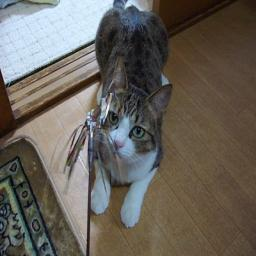catnose: (114, 136, 125, 151)
